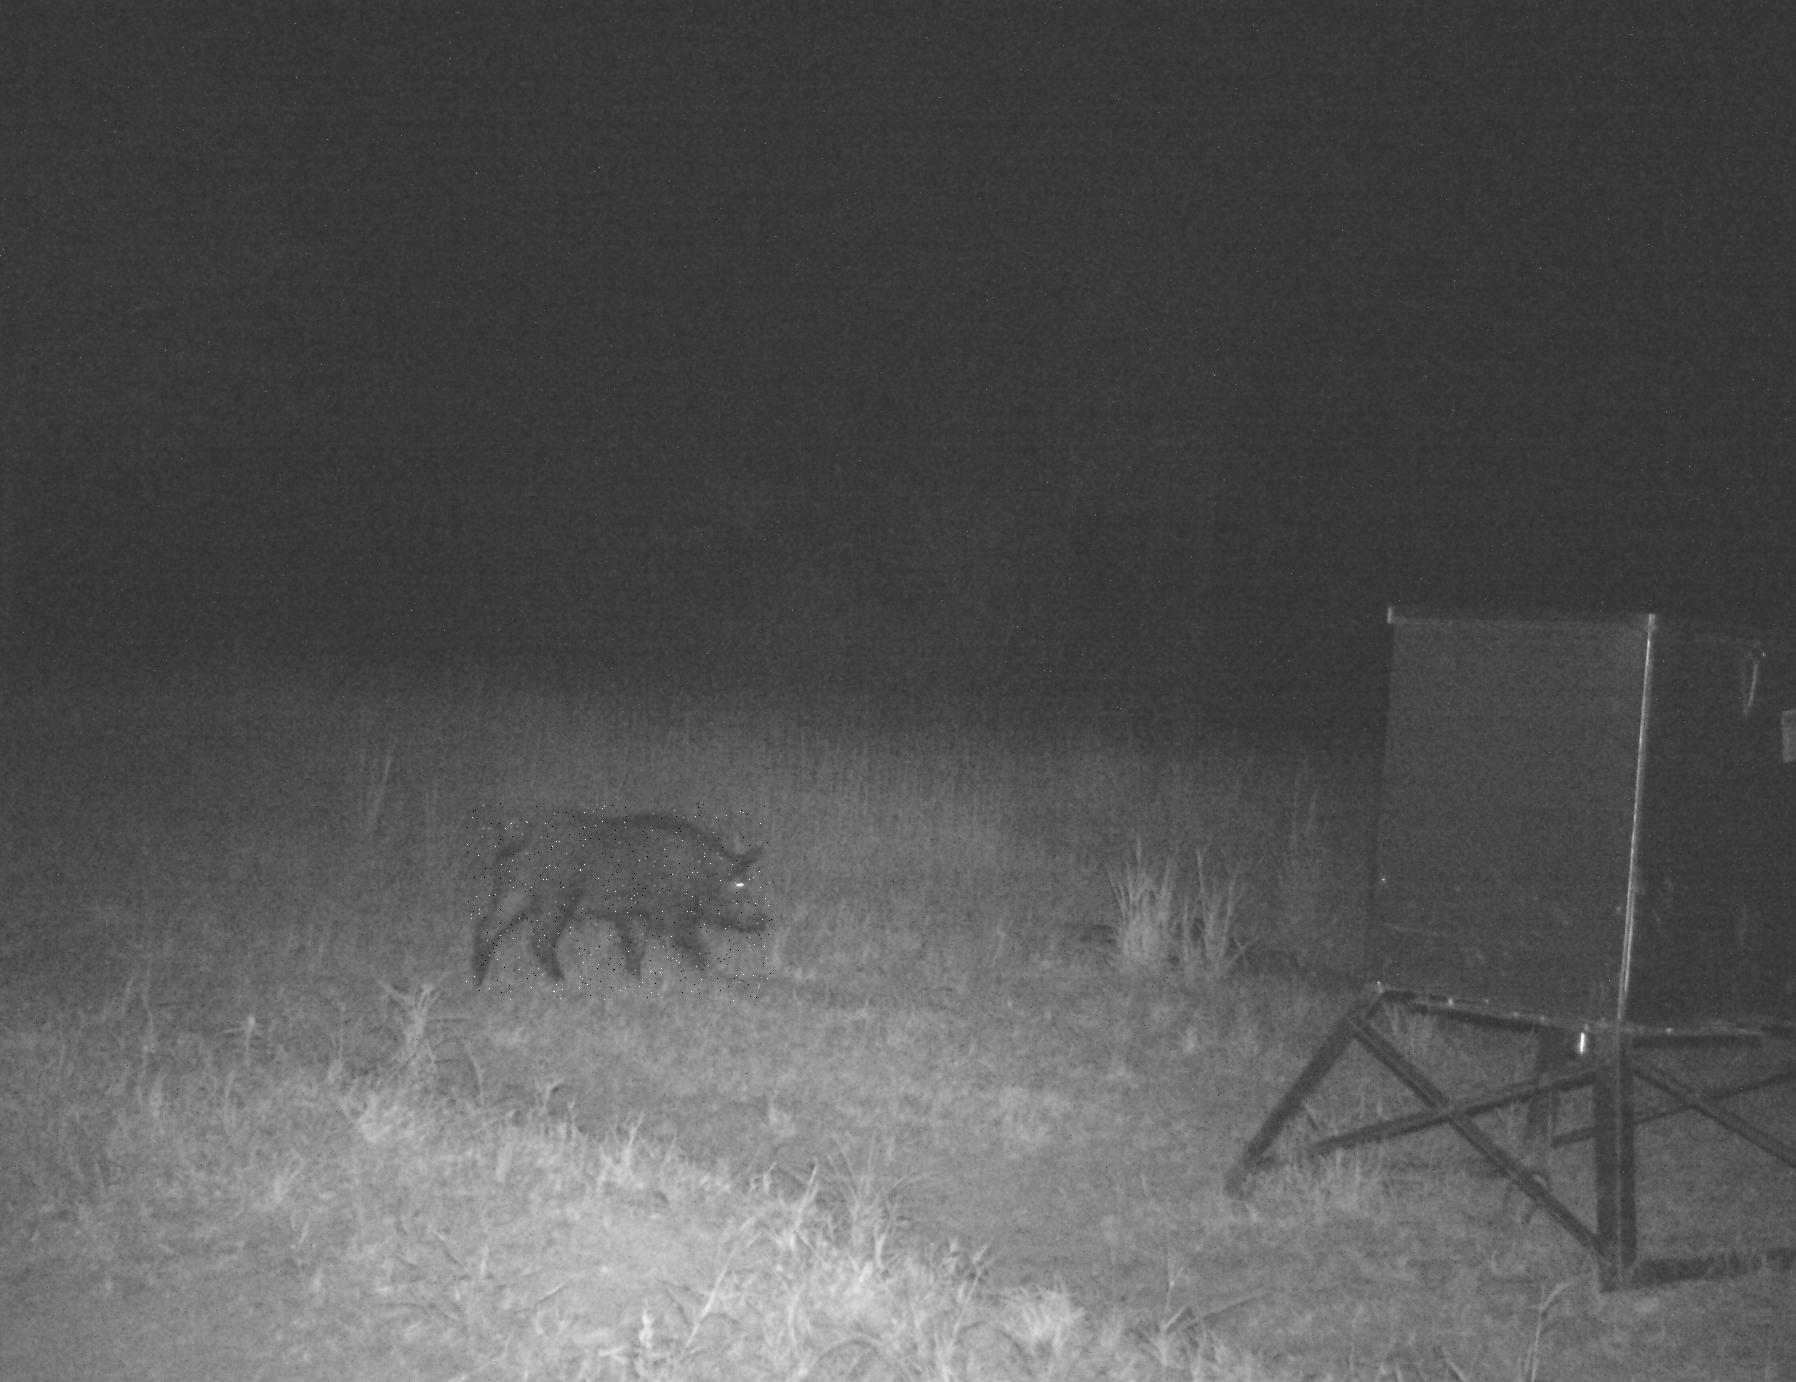Hog: (466, 803, 772, 1002)
